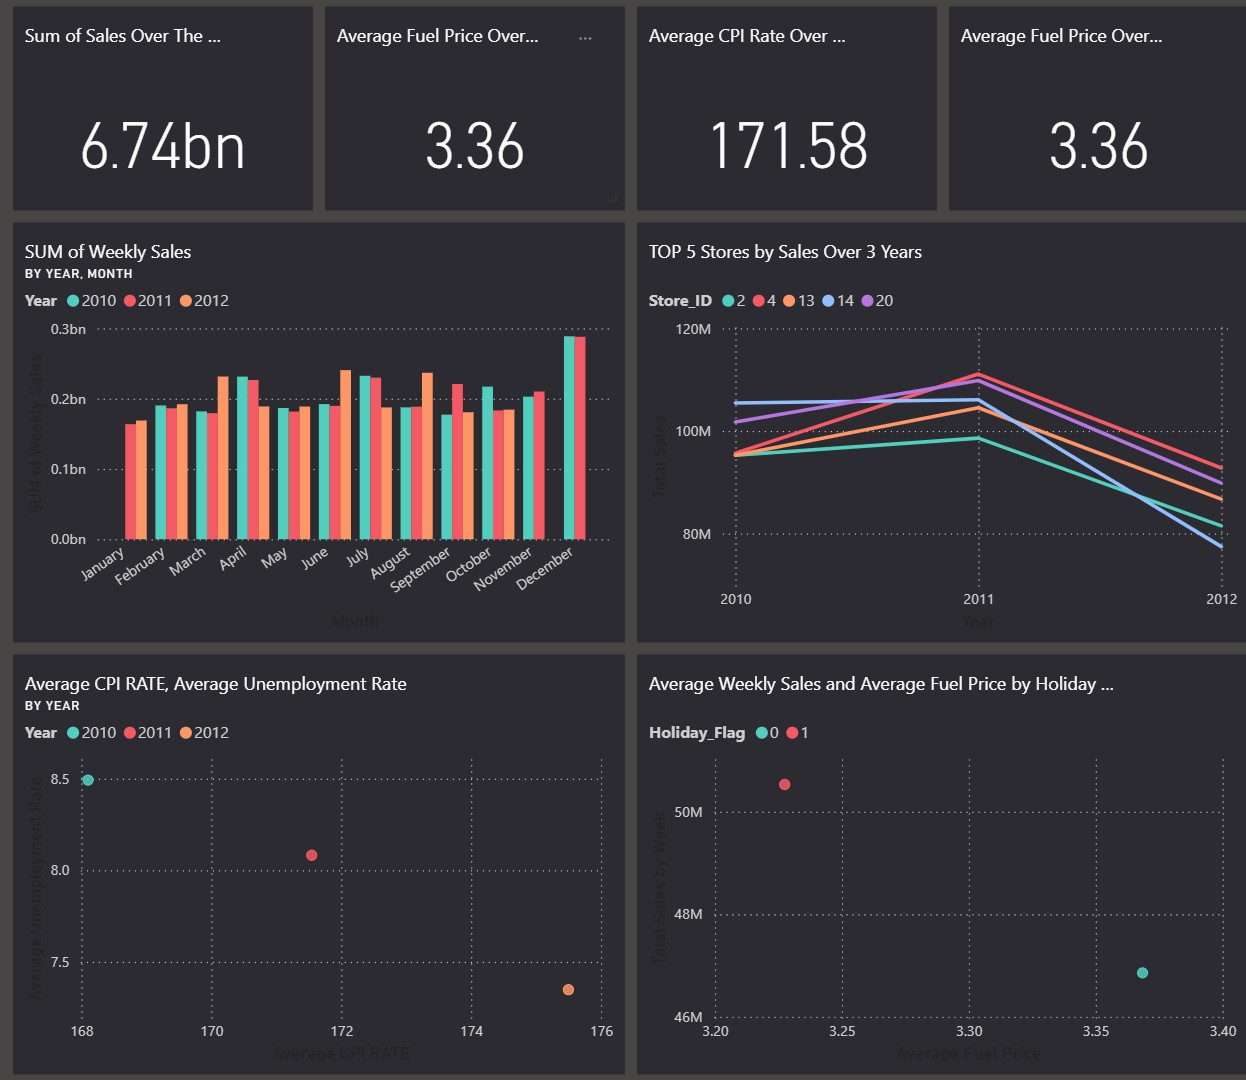

This screenshot's page, from the dashboard's own definition file:
{"tool":"powerbi","page":{"name":"Page 1","canvas":[1280,720],"ordinal":0},"visuals":[{"type":"card","fields":{"Values":["Walmart_Sales.SUM of Weekly Sales"]},"box":[0,0,270.4,105.2],"z":0},{"type":"clusteredColumnChart","title":"TOP 5 Stores by Sales Over 3 Years","fields":{"Category":["Date.Year"],"Y":["Walmart_Sales.SUM of Weekly Sales"],"Series":["Walmart_Sales.Store_ID"]},"box":[540.8,105.2,740,307.7],"z":1000},{"type":"actionButton","box":[0,0,100,40],"z":2000},{"type":"lineChart","title":"Monthly sales by Years","fields":{"Category":["Date.Date.Variation.Date Hierarchy.Year","Date.Date.Variation.Date Hierarchy.Quarter","Date.Date.Variation.Date Hierarchy.Month","Date.Date.Variation.Date Hierarchy.Day"],"Y":["Walmart_Sales.SUM of Weekly Sales"],"Series":["Date.Year"]},"box":[0,105.2,540.8,307.7],"z":3000},{"type":"lineStackedColumnComboChart","title":"Average CPI RATE and Average Unemployment Rate by Year","fields":{"Y":["Walmart_Sales.Average CPI RATE"],"Category":["Date.Year"],"Y2":["Walmart_Sales.Average Unemployement Rate"]},"box":[0,412.9,540.8,307.7],"z":4000},{"type":"card","fields":{"Values":["Walmart_Sales.Average Price Price"]},"box":[270.4,0,263.9,105.2],"z":5000},{"type":"card","fields":{"Values":["Walmart_Sales.Average CPI RATE"]},"box":[518.2,0,272,105.2],"z":6000},{"type":"scatterChart","title":"Sales Performance by Avg Fuel Price and Holiday Week","fields":{"Category":["Walmart_Sales.Holiday_Flag"],"Series":["Walmart_Sales.Holiday_Flag"],"X":["Walmart_Sales.Average Price Price"],"Y":["Walmart_Sales.Total Sales by Week"]},"box":[541,413,739,307],"z":7000},{"type":"card","fields":{"Values":["Walmart_Sales.Average Price Price"]},"box":[796.7,0,257.5,105.2],"z":8000},{"type":"card","fields":{"Values":["Sum(Walmart_Sales.Holiday_Flag)"]},"box":[1054.1,0,225.1,105.2],"z":9000}]}

Visuals, with their boxes on the page's 1280x720 design canvas (x1, y1, x2, y2). These are canvas units, not pixel positions in the 1246x1080 screenshot, which may show the page scaled, cropped or inside an application window:
card - Walmart_Sales.SUM of Weekly Sales: 0 0 270 105
"TOP 5 Stores by Sales Over 3 Years" clusteredColumnChart: 541 105 1281 413
actionButton: 0 0 100 40
"Monthly sales by Years" lineChart: 0 105 541 413
"Average CPI RATE and Average Unemployment Rate by Year" lineStackedColumnComboChart: 0 413 541 721
card - Walmart_Sales.Average Price Price: 270 0 534 105
card - Walmart_Sales.Average CPI RATE: 518 0 790 105
"Sales Performance by Avg Fuel Price and Holiday Week" scatterChart: 541 413 1280 720
card - Walmart_Sales.Average Price Price: 797 0 1054 105
card - Sum(Walmart_Sales.Holiday_Flag): 1054 0 1279 105
